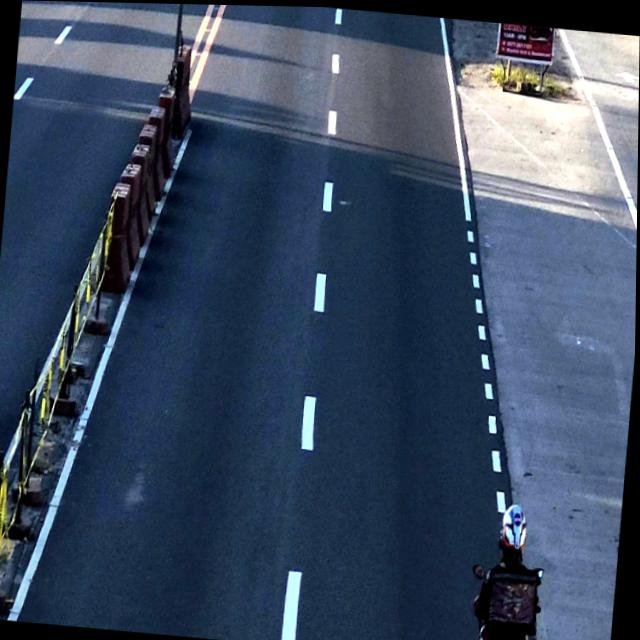Motorcycle: (471, 493, 550, 640)
